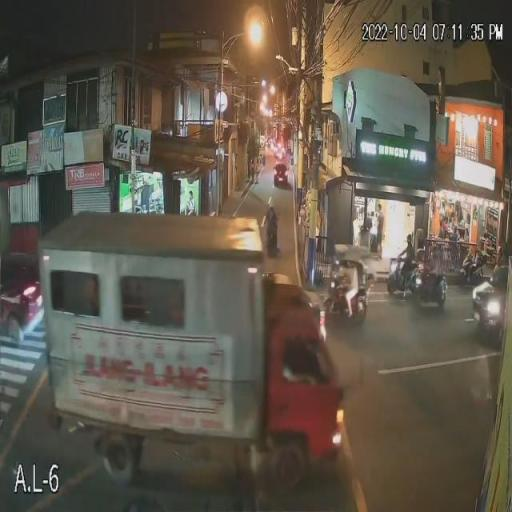helmet: (266, 202, 279, 216), (404, 234, 418, 245)
motorcycle: (384, 256, 429, 299), (269, 212, 284, 265)
rider: (400, 242, 418, 274), (266, 209, 281, 244)
